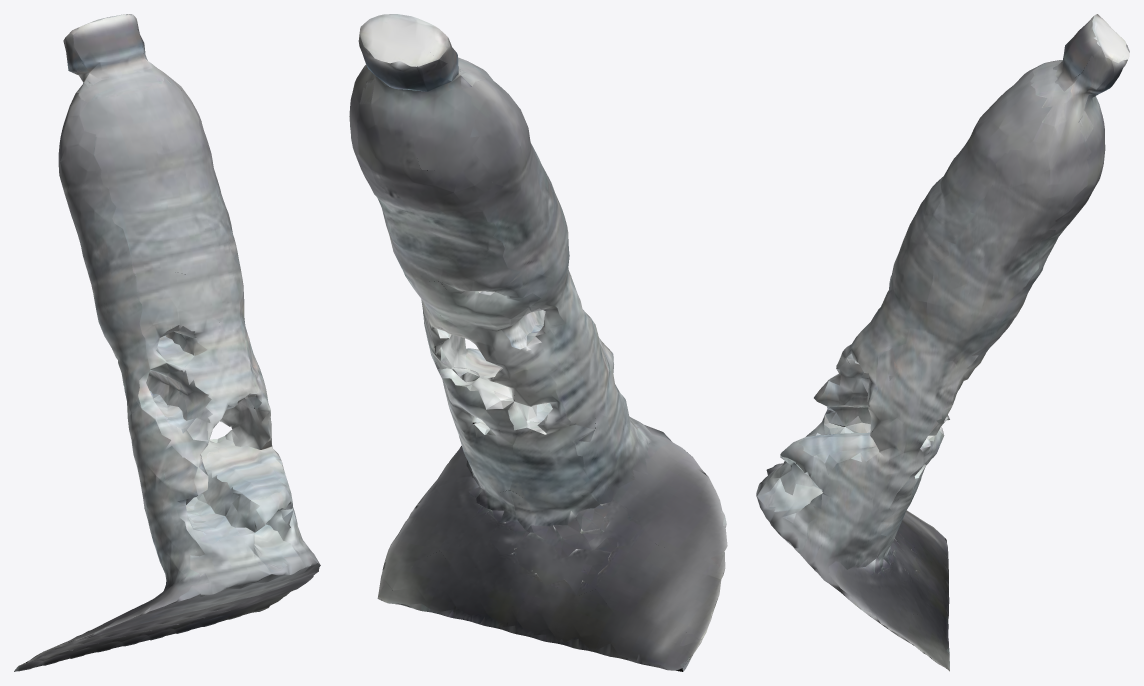
The model's file is bottle.glb.
3 views of the same model, side by side, from view 1: azimuth 30°, elevation 25°; view 2: azimuth 150°, elevation 25°; view 3: azimuth 270°, elevation 25° (orthographic). The views are drawn at different scales.
Visible parts, largest first — view 1: world; view 2: world; view 3: world.
Part boxes in pixels (box(x1,y1,x2,y2)): world: box(14, 14, 320, 671); world: box(349, 14, 727, 671); world: box(756, 14, 1129, 671).
Bounding box in the file's own units: 0.4408 × 0.8925 × 0.5023.
1 material, 1 textured.
